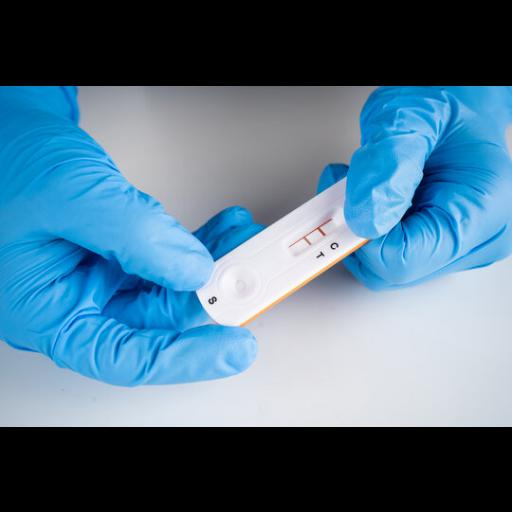Pos: (189, 175, 389, 335)
